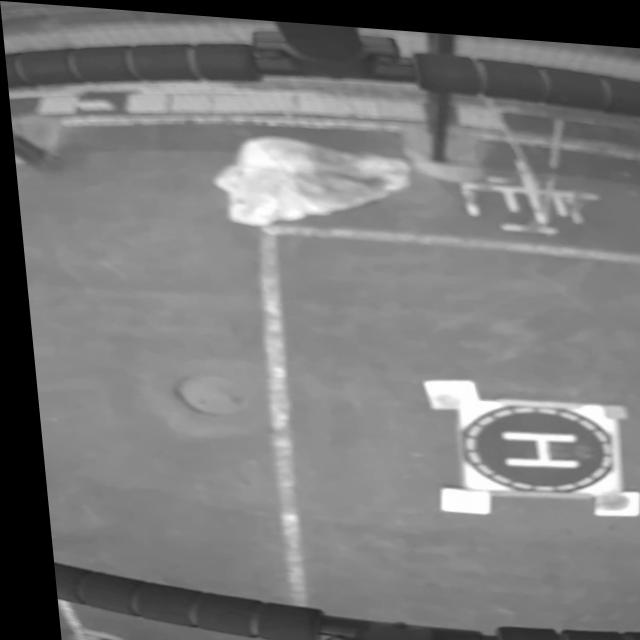Helipad: (493, 422, 573, 460)
